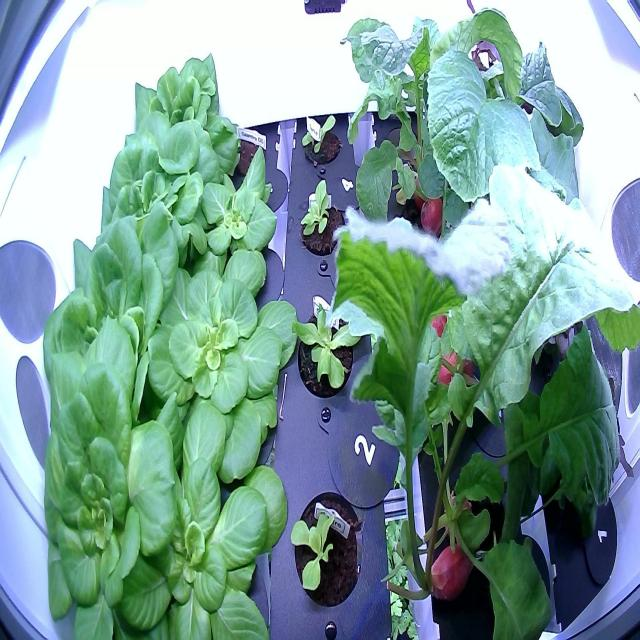pod: (225, 119, 273, 187)
young: (108, 390, 294, 640), (27, 351, 186, 639), (136, 241, 302, 482), (38, 208, 193, 432), (83, 112, 227, 286), (119, 46, 243, 183), (188, 139, 288, 292), (284, 484, 367, 615), (287, 286, 356, 418), (294, 172, 348, 274), (294, 103, 345, 182)
